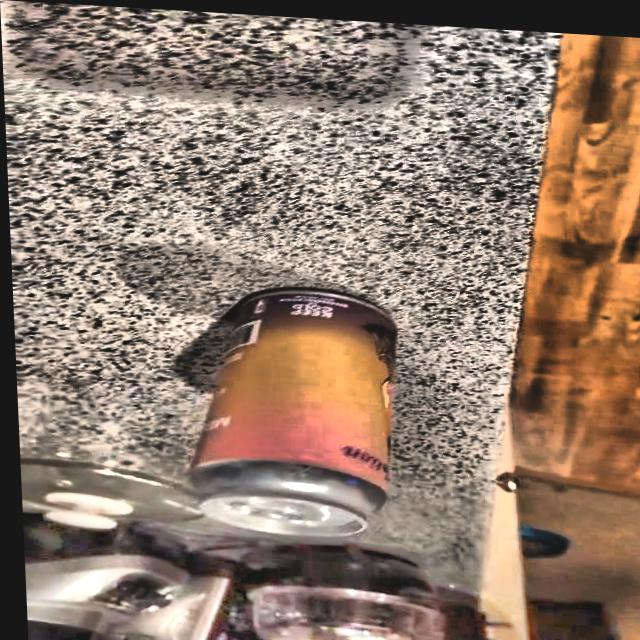can: (164, 266, 411, 552)
